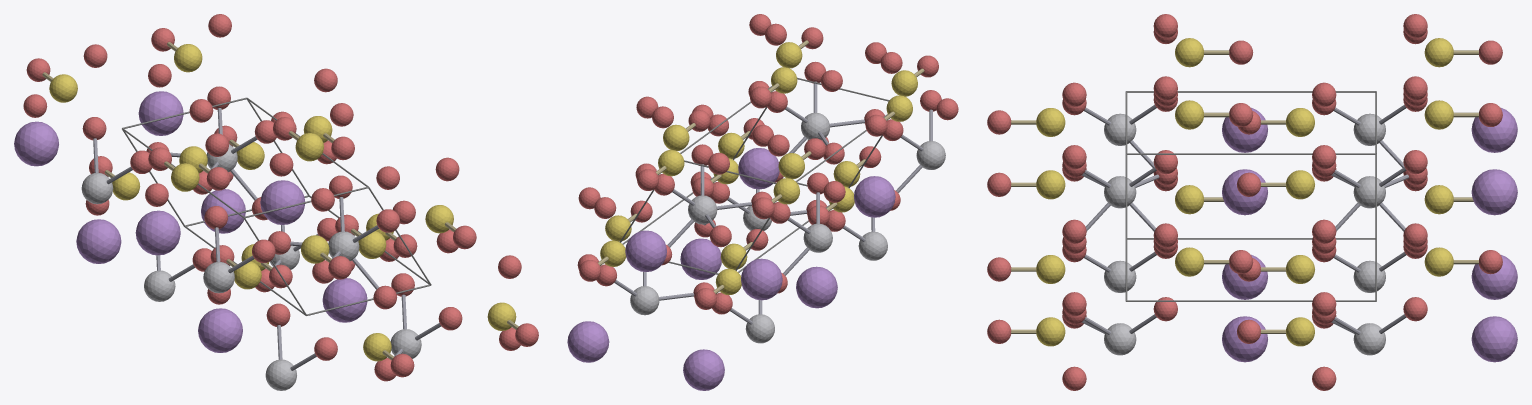
The model's file is Anhydrous_alum_KAl_SO4_2_from_CIF.glb.
The picture shows the model from 3 angles, left to right: view 1: azimuth 30°, elevation 25°; view 2: azimuth 150°, elevation 25°; view 3: azimuth 270°, elevation 25°; orthographic projection. The views are drawn at different scales.
Parts seen in each view (by area): view 1: O_atoms, K_atoms, S_atoms, Al_atoms, bonds, unit_cell_outline; view 2: O_atoms, K_atoms, S_atoms, Al_atoms, bonds, unit_cell_outline; view 3: O_atoms, S_atoms, K_atoms, Al_atoms, bonds, unit_cell_outline.
Part boxes in pixels (x1,y1,x2,y2): O_atoms: (23,14,538,381); K_atoms: (14,91,367,352); S_atoms: (49,44,516,361); Al_atoms: (81,144,421,390); bonds: (42,42,518,370); unit_cell_outline: (122,97,431,315); O_atoms: (577,14,958,314); K_atoms: (567,148,895,390); S_atoms: (600,42,917,295); Al_atoms: (630,112,945,343); bonds: (598,40,932,324); unit_cell_outline: (620,77,889,274); O_atoms: (987,14,1502,390); S_atoms: (1036,38,1453,346); K_atoms: (1222,107,1517,362); Al_atoms: (1104,113,1385,355); bonds: (1011,50,1478,334); unit_cell_outline: (1125,91,1376,301).
Bounding box in the file's own units: 12.49 × 9.23 × 16.95.
